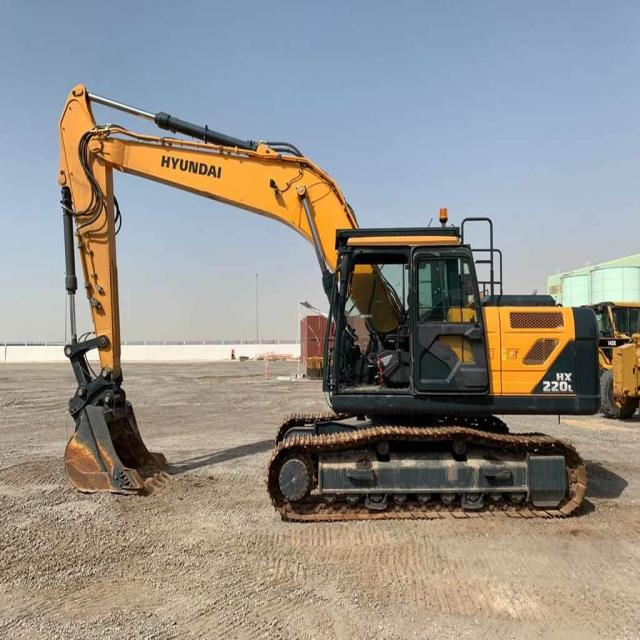excavator: (39, 76, 608, 528)
